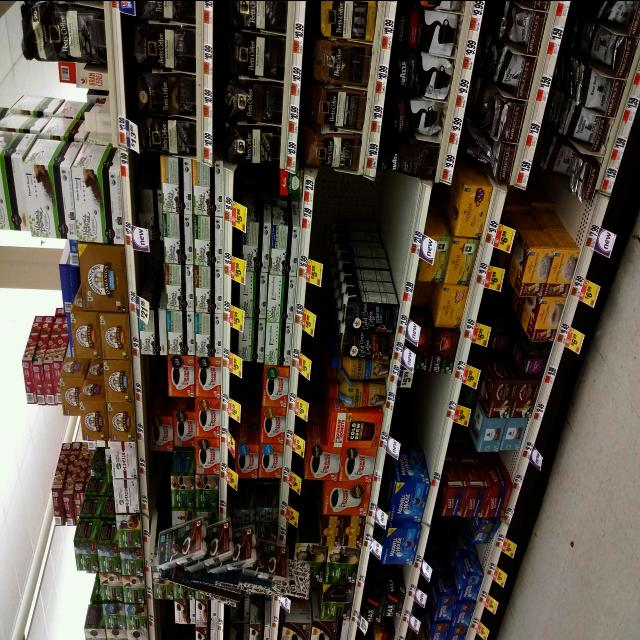empty_space: (323, 181, 405, 263), (402, 383, 441, 441)
